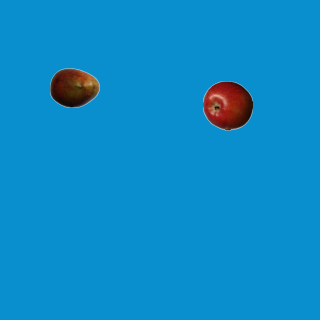Apple Braeburn: (202, 80, 252, 130)
Mango Red: (49, 62, 99, 112)
